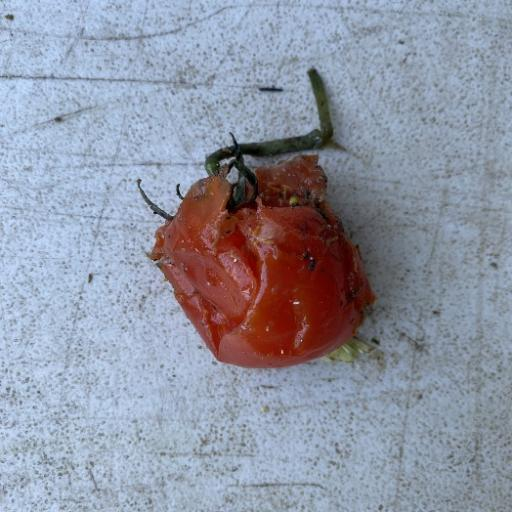Waste: (139, 148, 377, 370)
